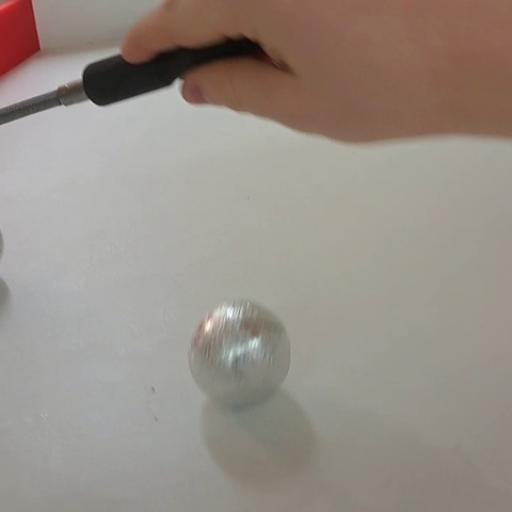alive: (185, 299, 294, 409)
